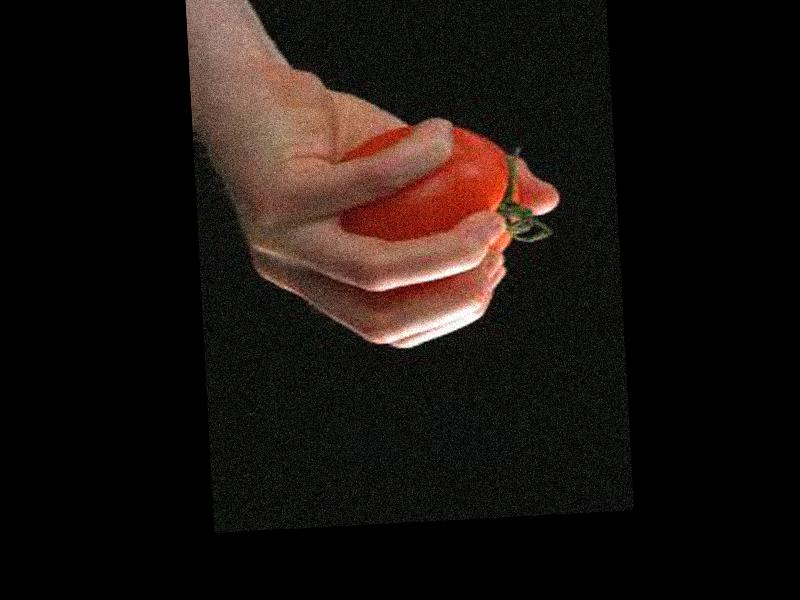Tomato: (329, 120, 514, 263)
